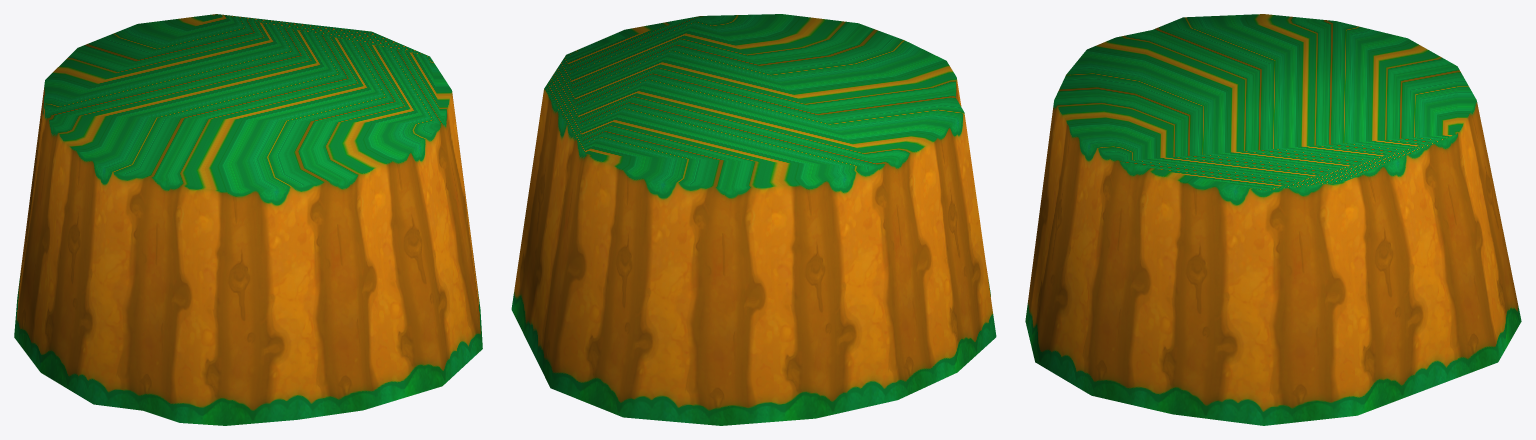
The model's file is Hill01_b01_col.FBX.
3 renders of one model, left to right at view 1: azimuth 30°, elevation 25°; view 2: azimuth 150°, elevation 25°; view 3: azimuth 270°, elevation 25°, orthographic.
Parts seen in each view (by area): view 1: Hill01_b01_col; view 2: Hill01_b01_col; view 3: Hill01_b01_col.
Part boxes in pixels (x1,y1,x2,y2): Hill01_b01_col: [14, 14, 482, 425]; Hill01_b01_col: [511, 14, 996, 425]; Hill01_b01_col: [1025, 14, 1521, 425].
Size of the model in its own units: 987 by 499 by 1015.
